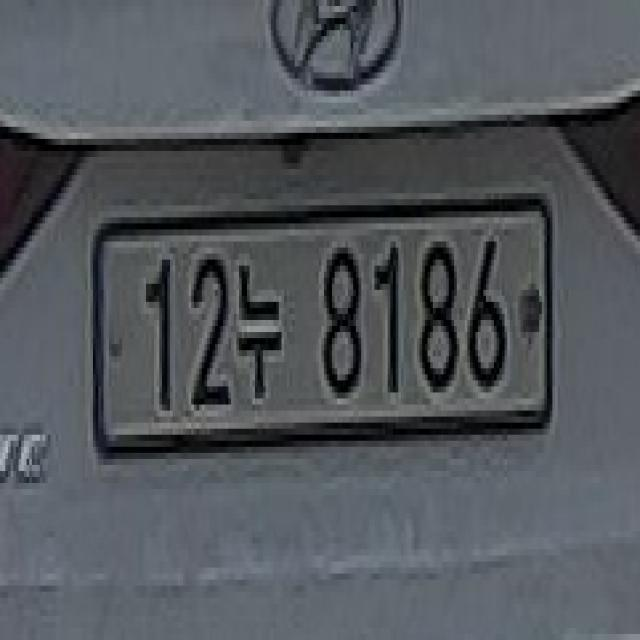1: (366, 230, 409, 422), (140, 242, 180, 434)
2: (186, 242, 234, 434)
6: (465, 224, 515, 410)
8: (313, 236, 364, 417), (414, 229, 462, 416)
license_plate: (85, 181, 560, 489)
nu: (231, 248, 289, 410)
